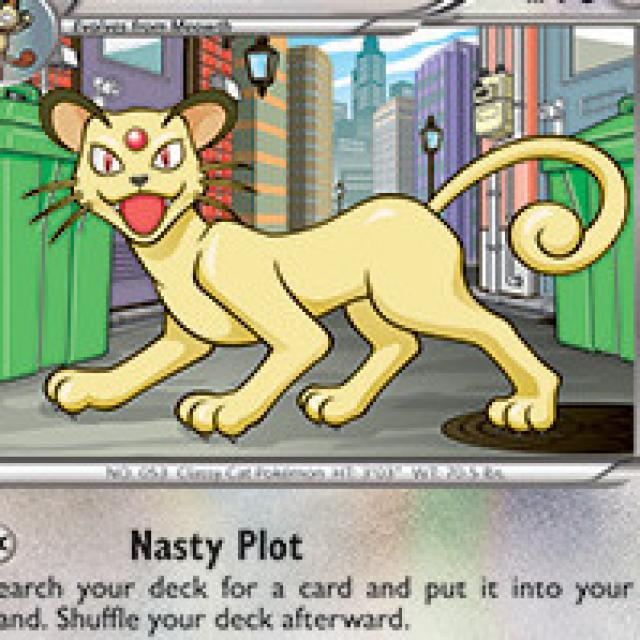Persian: (40, 86, 563, 436)
